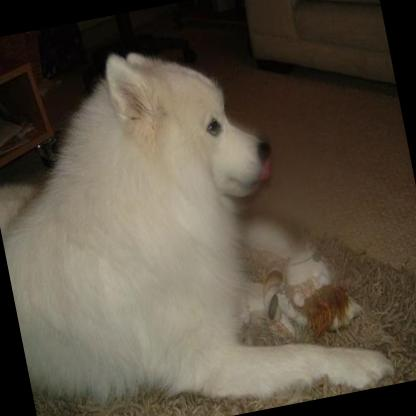Samoyed: (0, 10, 397, 416)
